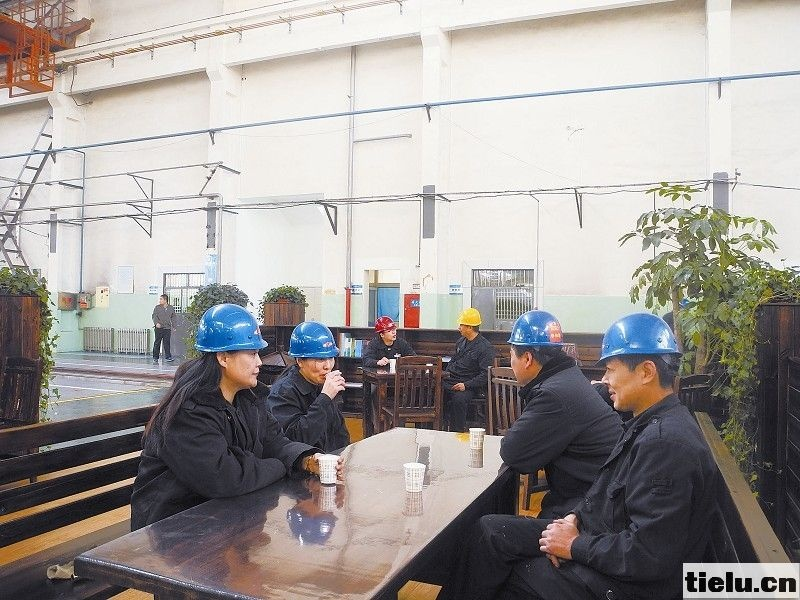blue: (598, 311, 683, 417), (193, 305, 265, 391), (508, 309, 568, 386), (289, 320, 337, 388)
none: (157, 292, 170, 306)
red: (374, 316, 399, 343)
yellow: (457, 306, 483, 339)
